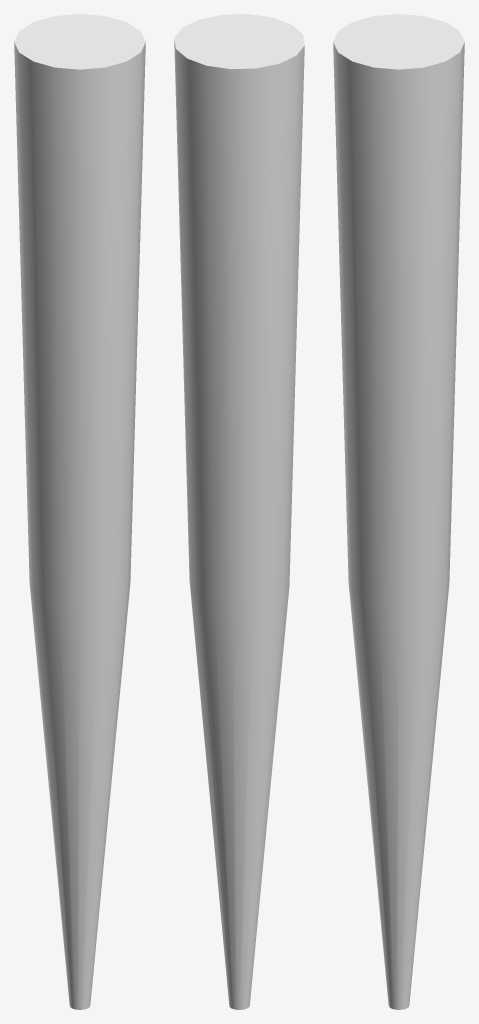
File: DozatorSubstance.fbx
The picture shows the model from 3 angles, left to right: view 1: azimuth 90°, elevation 25°; view 2: azimuth 150°, elevation 25°; view 3: azimuth 270°, elevation 25°; orthographic projection.
Visible parts, largest first — view 1: Circle.003; view 2: Circle.003; view 3: Circle.003.
Boxes of the visible parts, box(x1,y1,x2,y2) form: Circle.003: box(14, 14, 145, 1009); Circle.003: box(174, 14, 304, 1009); Circle.003: box(333, 14, 464, 1009).
Bounding box in the file's own units: 18.97 × 153 × 18.97.
